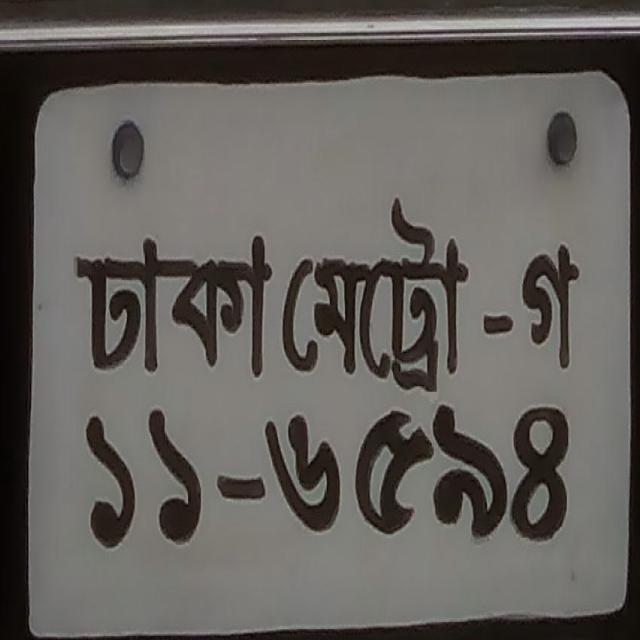cng: (110, 119, 145, 182), (545, 110, 578, 167)
numberplate: (23, 64, 634, 635)
